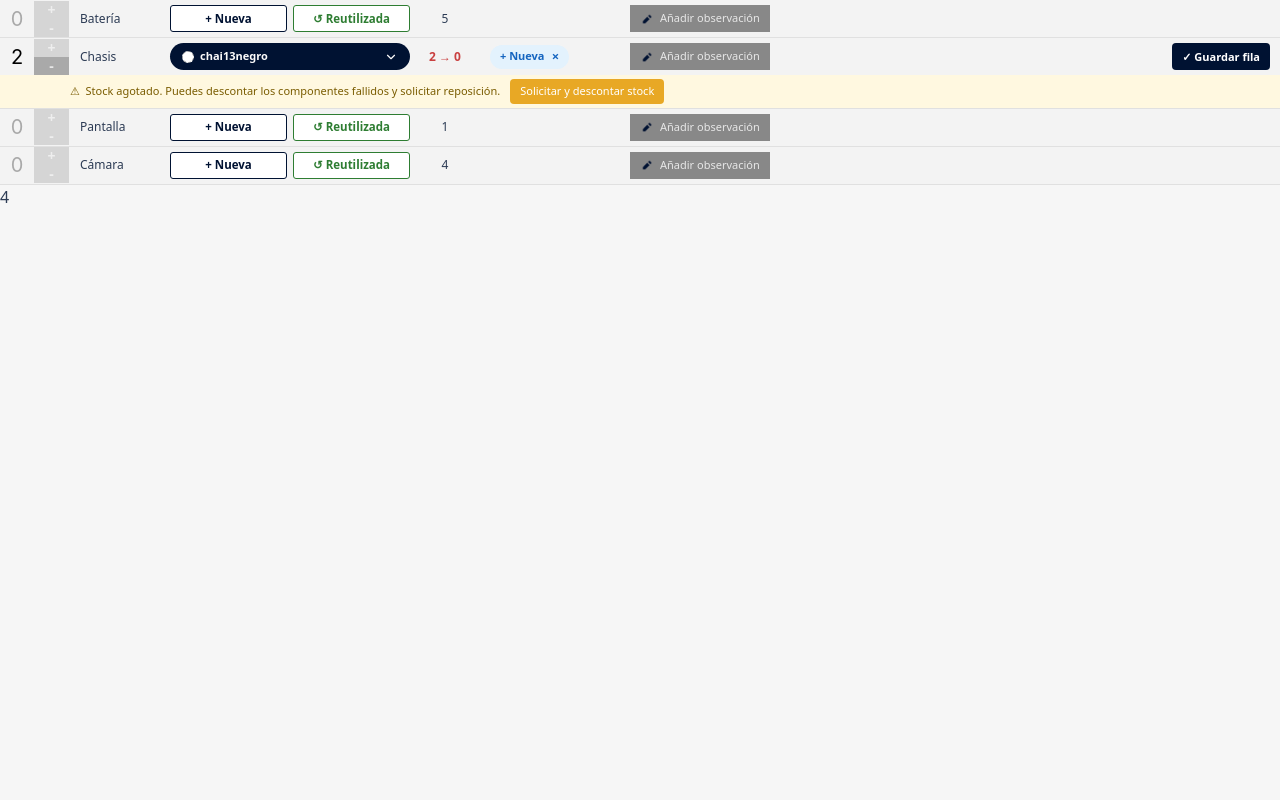
Scenario: SubFilaAgotado (ficha docs/paridad/formulario.md · Sub-fila de agotado y solicitud de pieza) › etiqueta con " — <descripción>"; en límite conserva la cantidad y el número es el stock
Click the button "Solicitar y descontar stock" at (587, 91), box x1=510 y1=79 x2=664 y2=104
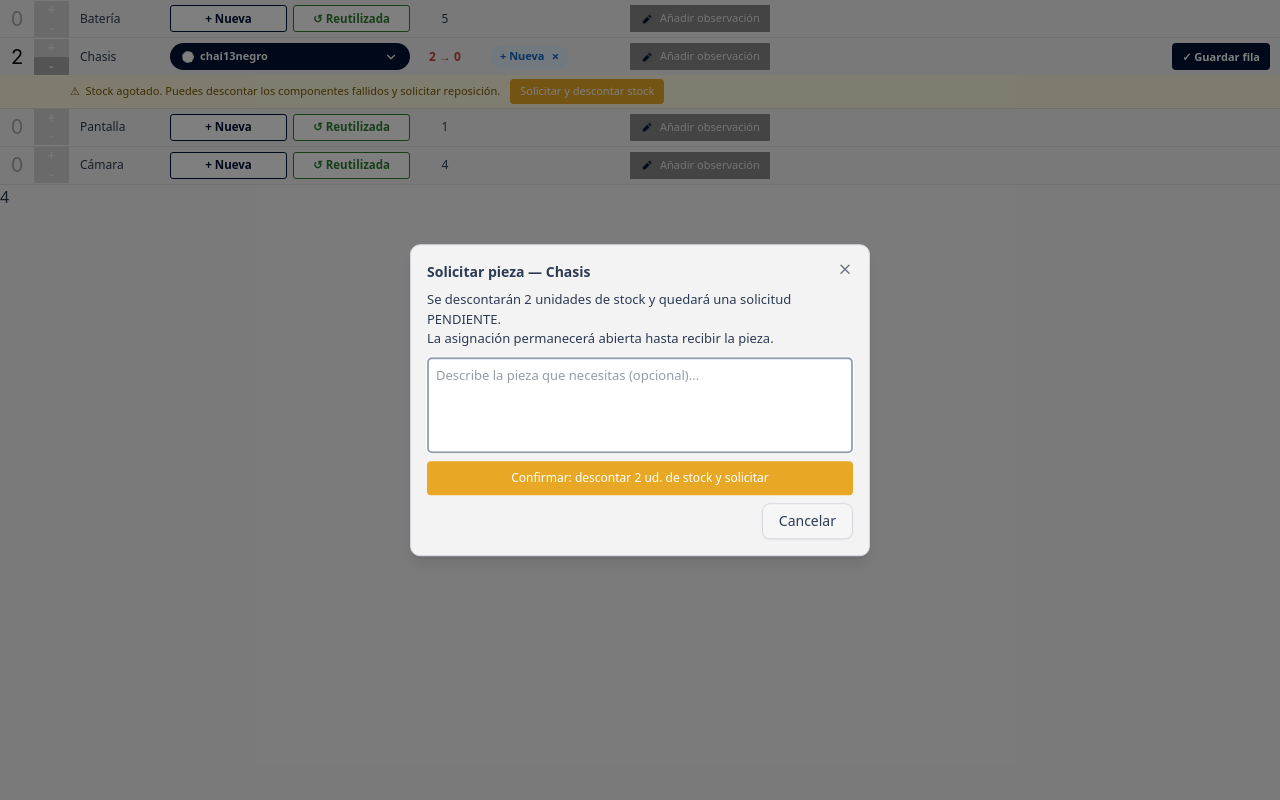
Type "  Marco doblado  " into the text box at (640, 405), box x1=427 y1=357 x2=853 y2=453
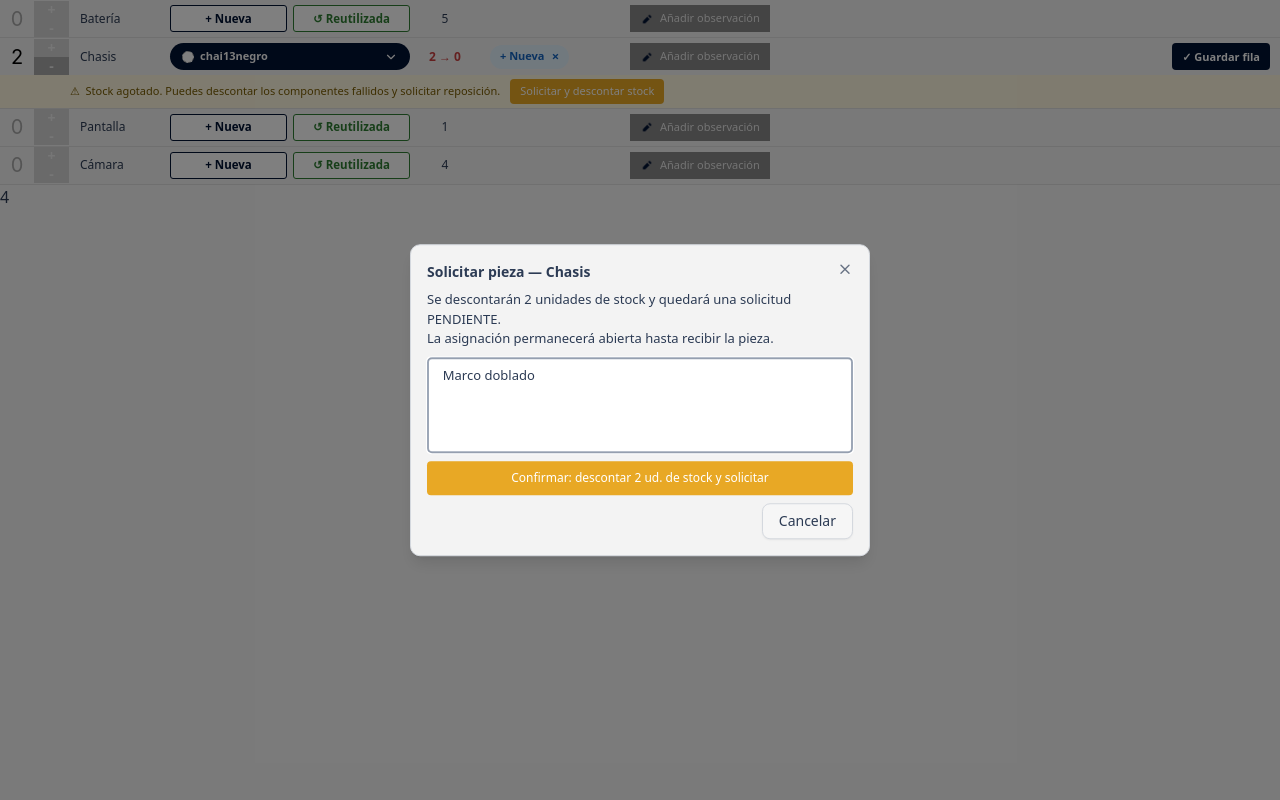
Click the button "Confirmar: descontar 2 ud. de stock y solicitar" at (640, 478), box x1=427 y1=461 x2=853 y2=495
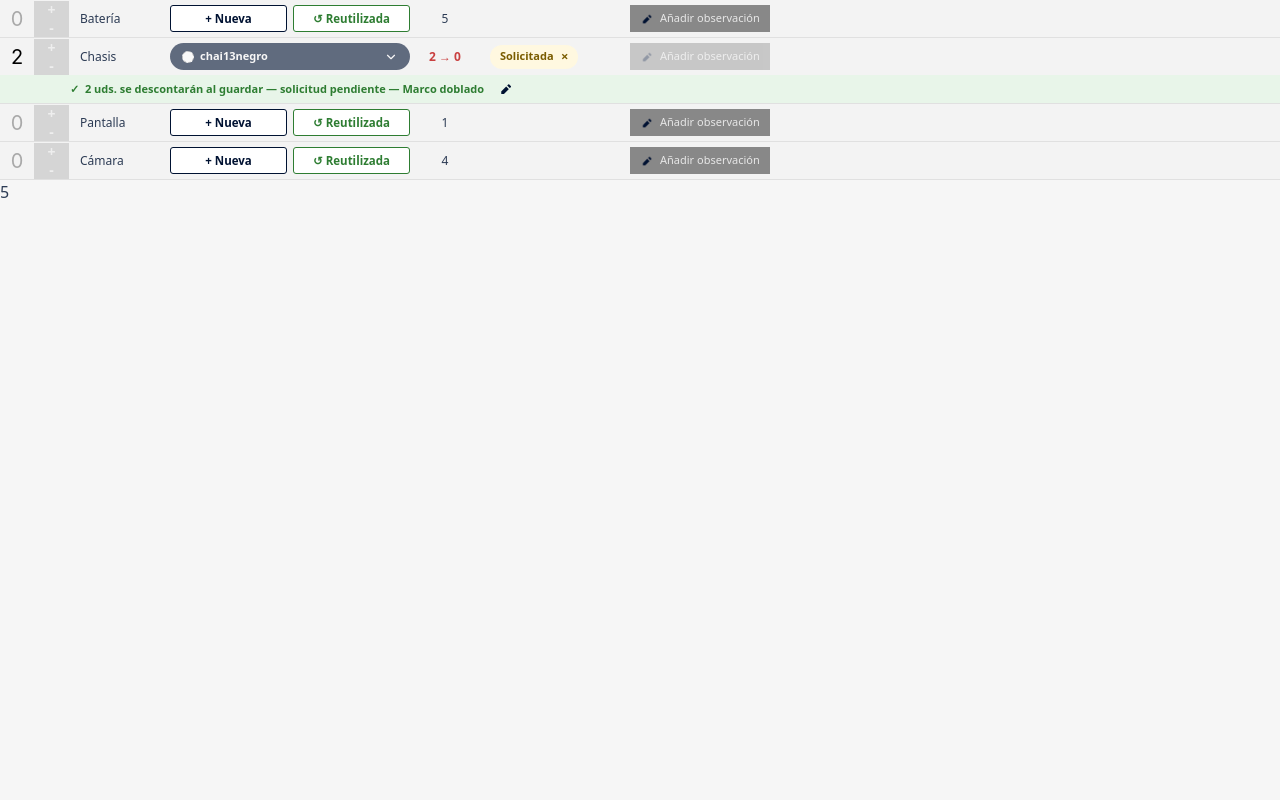
Expected: the text with test id "contador-cha" reads "2", x1=11 y1=44 x2=23 y2=68
Expected: the text "se descontarán al guardar" reads "✓ 2 uds. se descontarán al guardar — solicitud pendiente — Marco doblado", x1=70 y1=81 x2=484 y2=96
Expected: the button with test id "boton-derecho-cha" is gone
